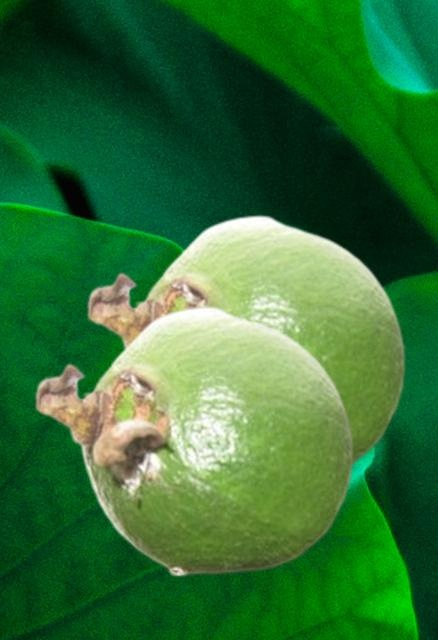guava: (33, 304, 355, 576), (85, 213, 407, 465)
